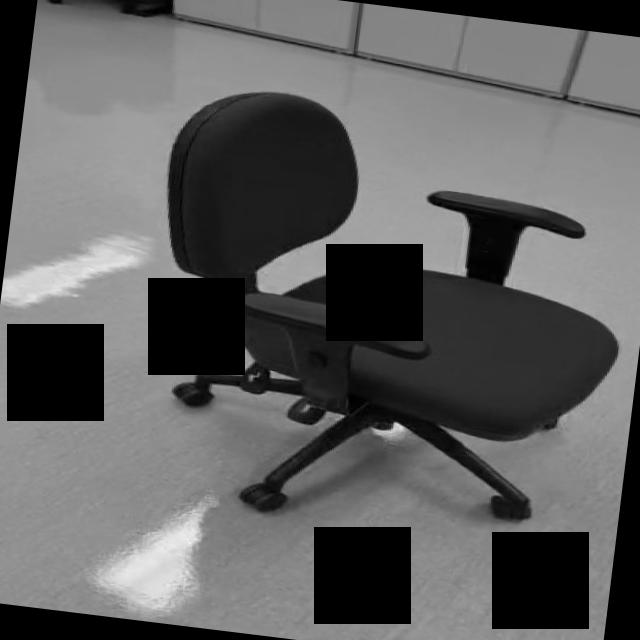cadeira-azul: (131, 80, 640, 553)
